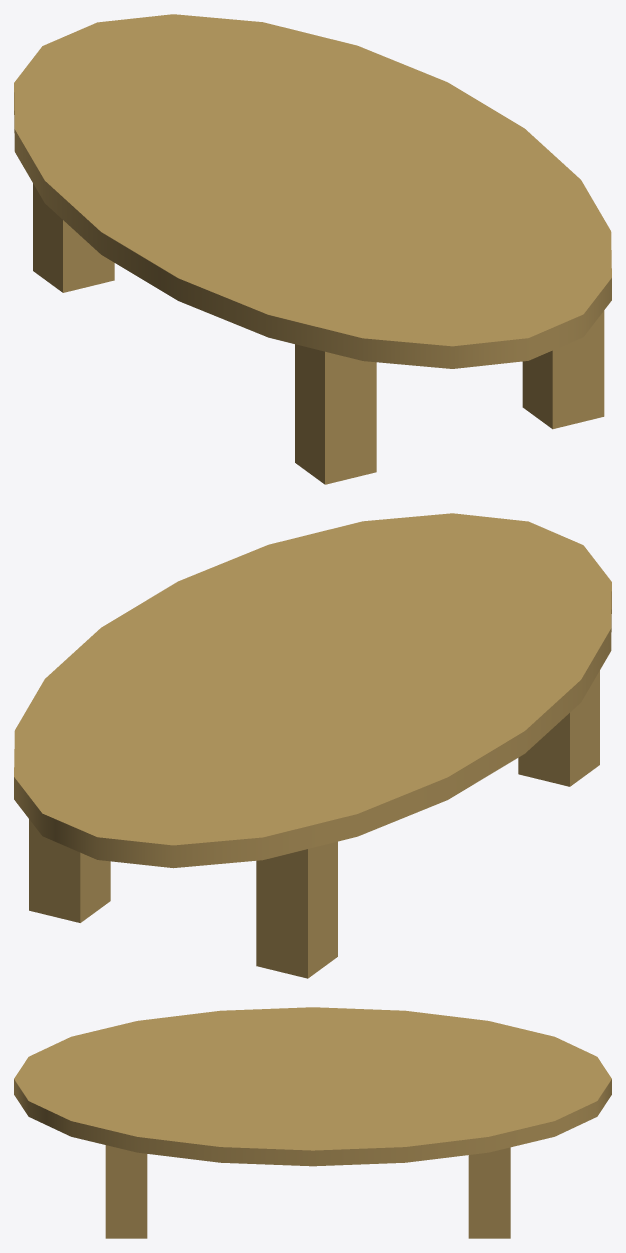
Rendered from Decor_CoffeeTable.fbx.
3 renders of one model, top to bottom at view 1: azimuth 30°, elevation 25°; view 2: azimuth 150°, elevation 25°; view 3: azimuth 270°, elevation 25°, orthographic. The views are drawn at different scales.
Visible parts, largest first — view 1: CoffeeTable; view 2: CoffeeTable; view 3: CoffeeTable.
Boxes of the visible parts, left/top/right/bottom form: CoffeeTable: left=14, top=14, right=611, bottom=484; CoffeeTable: left=14, top=513, right=611, bottom=978; CoffeeTable: left=14, top=1007, right=611, bottom=1238.
Size of the model in its own units: 1.67 by 0.6094 by 2.95.
1 material, 1 textured.
